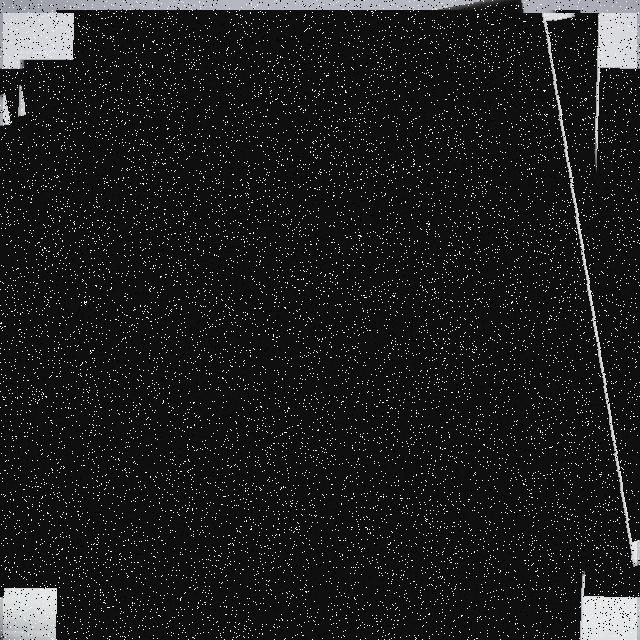dua puluh ribu rupiah: (3, 13, 637, 640)
